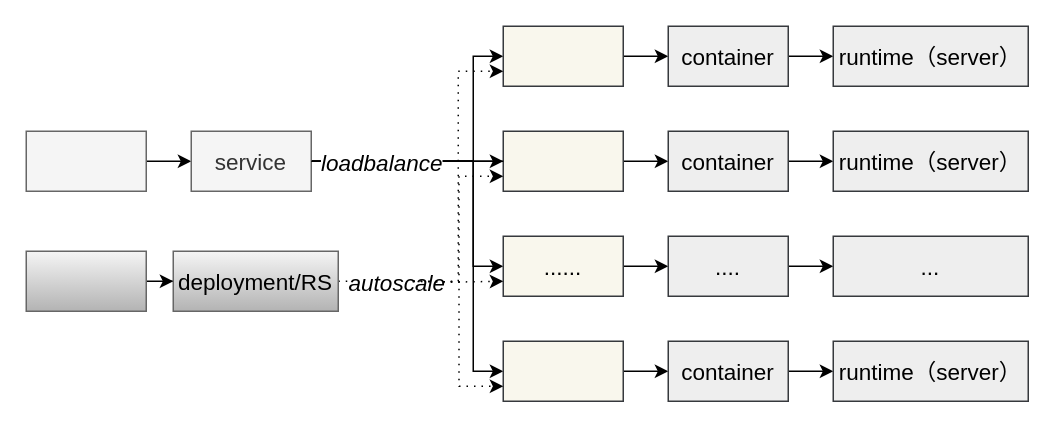
This 1055x428 diagram has some shape labels left out. The centre of each missing label's shape, as x and y in pixels:
horizontal autoscale: (x=85, y=280)
ingress: (x=85, y=160)
pod1: (x=562, y=55)
pod2: (x=562, y=160)
podN: (x=562, y=370)
